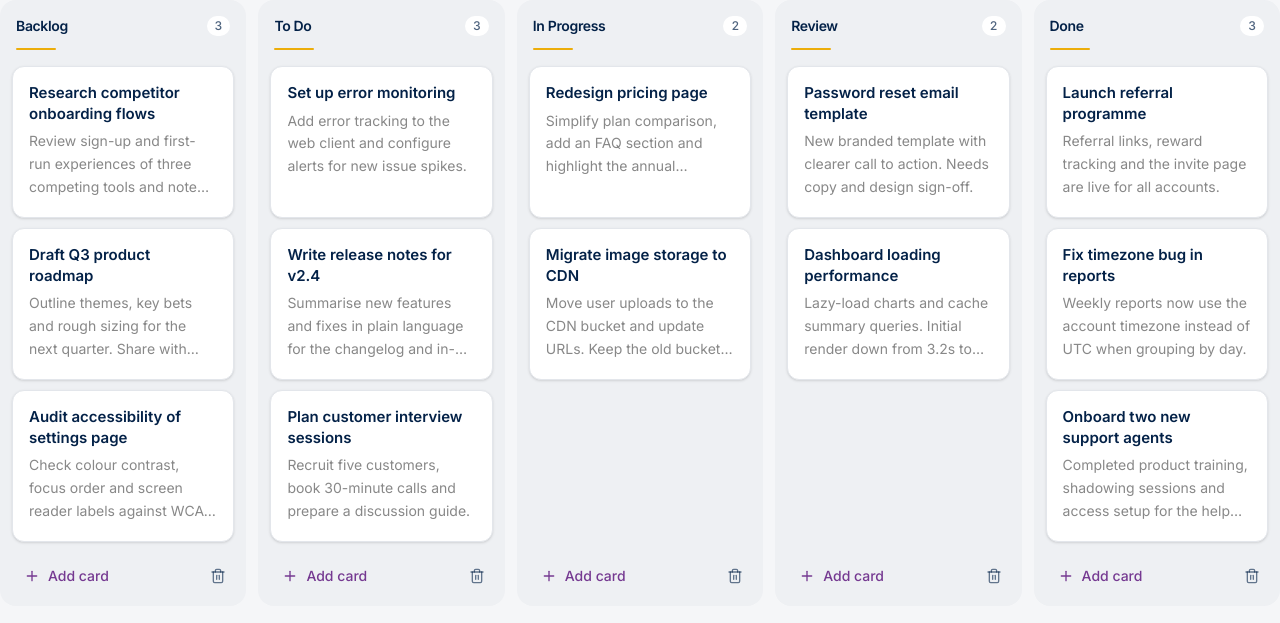
Test: Column › renames a column inline with Enter
The image size is (1280, 623).
Click the button with aria-label "Rename column: To Do" at (362, 26), box x1=266 y1=12 x2=457 y2=40
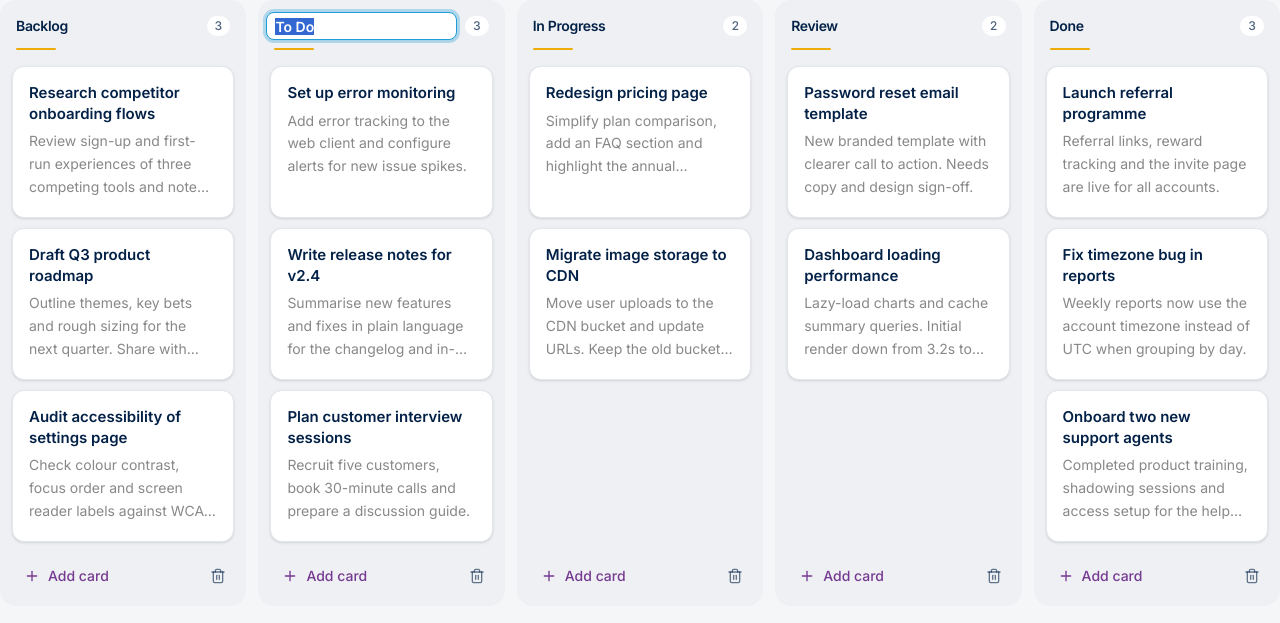
Replace the text in the field named "Column name" with "Next up" at (362, 26), box x1=266 y1=12 x2=457 y2=40
Then press Enter
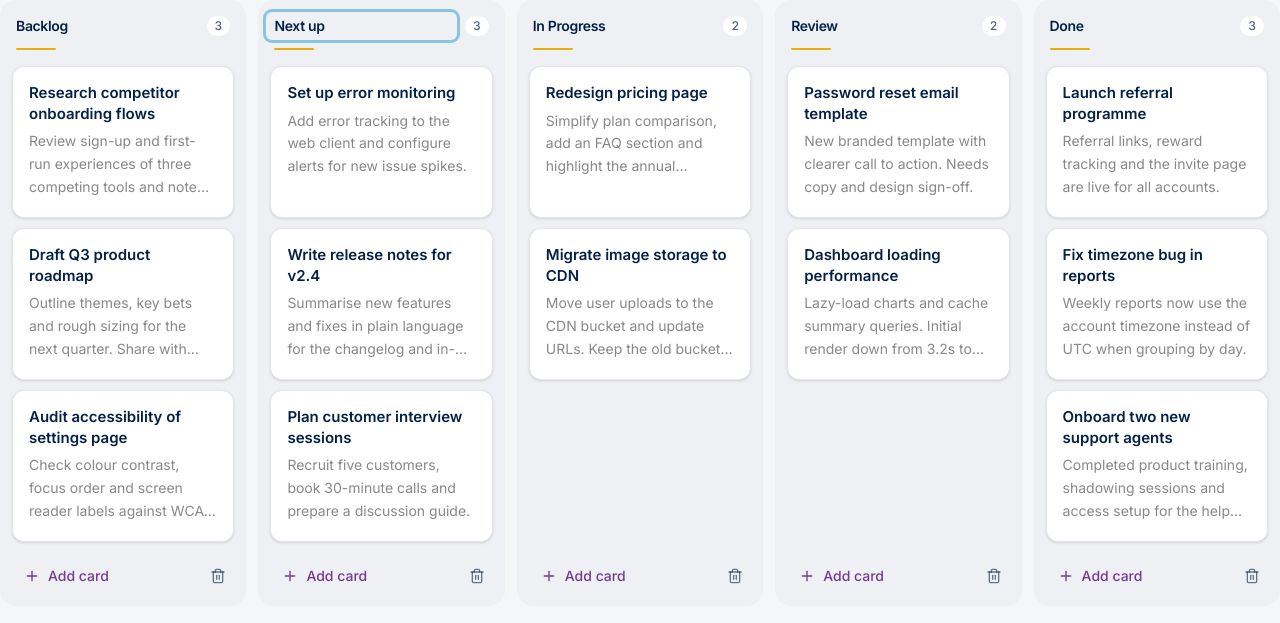
Expected: the button "Next up" is shown, x1=266 y1=12 x2=457 y2=40
Expected: the element "Next up" is shown, x1=258 y1=0 x2=505 y2=606
